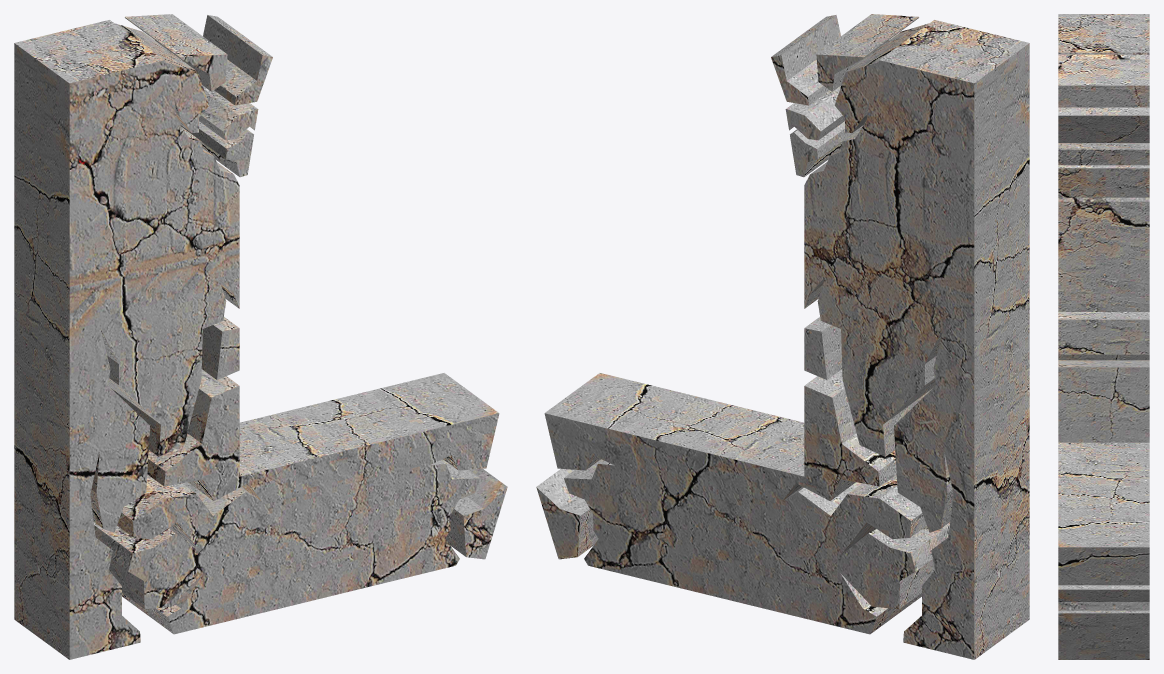
3 views of the same model, side by side, from view 1: azimuth 30°, elevation 25°; view 2: azimuth 150°, elevation 25°; view 3: azimuth 270°, elevation 25° (orthographic). The views are drawn at different scales.
Visible parts, largest first — view 1: L; view 2: L; view 3: L.
Part boxes in pixels (left/top/right/bottom): L: left=14, top=14, right=507, bottom=659; L: left=536, top=14, right=1029, bottom=659; L: left=1058, top=14, right=1149, bottom=659.
Size of the model in its own units: 68.7 by 86.51 by 15.
Materials: 1 (1 with a texture image).
